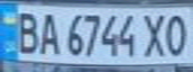4: (115, 10, 142, 58), (100, 10, 121, 57)
6: (60, 10, 84, 56)
7: (78, 10, 103, 56)
A: (33, 9, 60, 55)
B: (9, 8, 42, 55)
O: (160, 10, 193, 57)
X: (139, 10, 169, 58)
